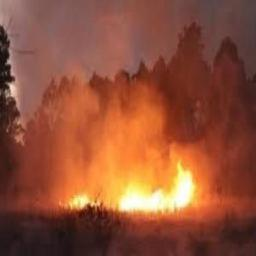Low smoke: (12, 3, 59, 211), (64, 86, 165, 179)
Small fire: (61, 158, 203, 211)
